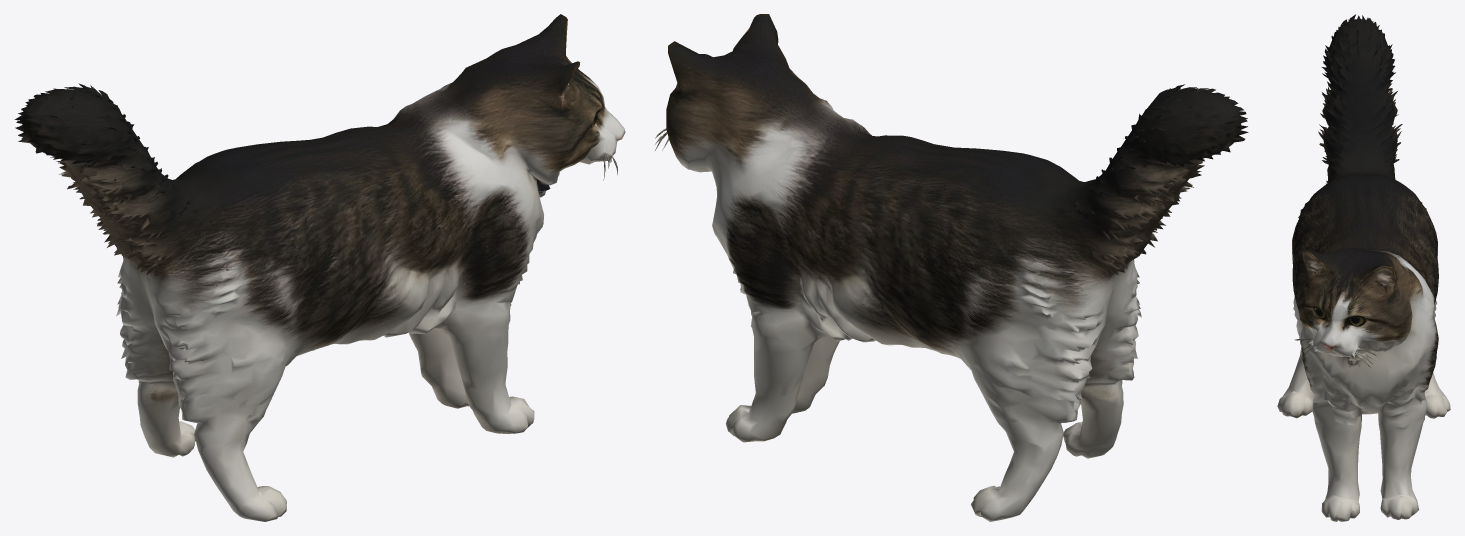
Rendered from OSCARRI.glb.
3 views of the same model, side by side, from view 1: azimuth 30°, elevation 25°; view 2: azimuth 150°, elevation 25°; view 3: azimuth 270°, elevation 25° (orthographic). The views are drawn at different scales.
Parts seen in each view (by area): view 1: tripo_node_c3eb7bea-1717-411c-901c-c70056f371a4; view 2: tripo_node_c3eb7bea-1717-411c-901c-c70056f371a4; view 3: tripo_node_c3eb7bea-1717-411c-901c-c70056f371a4.
Part boxes in pixels (<box>): tripo_node_c3eb7bea-1717-411c-901c-c70056f371a4: <box>14,14,625,521</box>; tripo_node_c3eb7bea-1717-411c-901c-c70056f371a4: <box>655,14,1248,521</box>; tripo_node_c3eb7bea-1717-411c-901c-c70056f371a4: <box>1277,14,1450,521</box>.
Bounding box in the file's own units: 1.42 × 1 × 0.47.
Materials: 1 (1 with a texture image).
